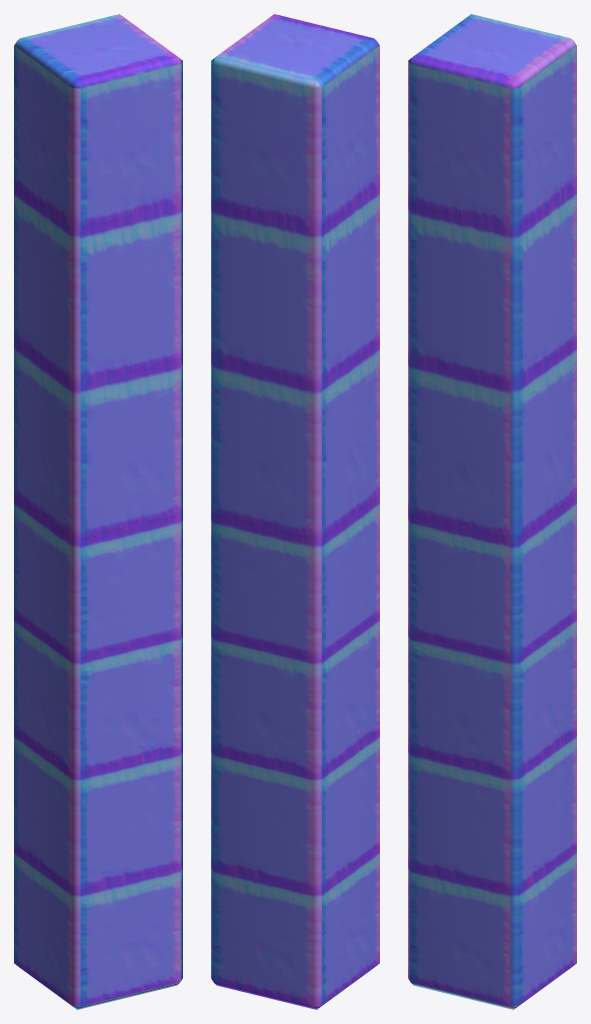
File: sm_wall_pillar_01.fbx
The picture shows the model from 3 angles, left to right: view 1: azimuth 30°, elevation 25°; view 2: azimuth 150°, elevation 25°; view 3: azimuth 330°, elevation 25°; orthographic projection.
Visible parts, largest first — view 1: sm_wall_pillar_01; view 2: sm_wall_pillar_01; view 3: sm_wall_pillar_01.
Boxes of the visible parts, left/top/right/bottom form: sm_wall_pillar_01: left=14, top=14, right=182, bottom=1009; sm_wall_pillar_01: left=211, top=14, right=379, bottom=1009; sm_wall_pillar_01: left=408, top=14, right=576, bottom=1009.
Bounding box in the file's own units: 50 × 400 × 50.
